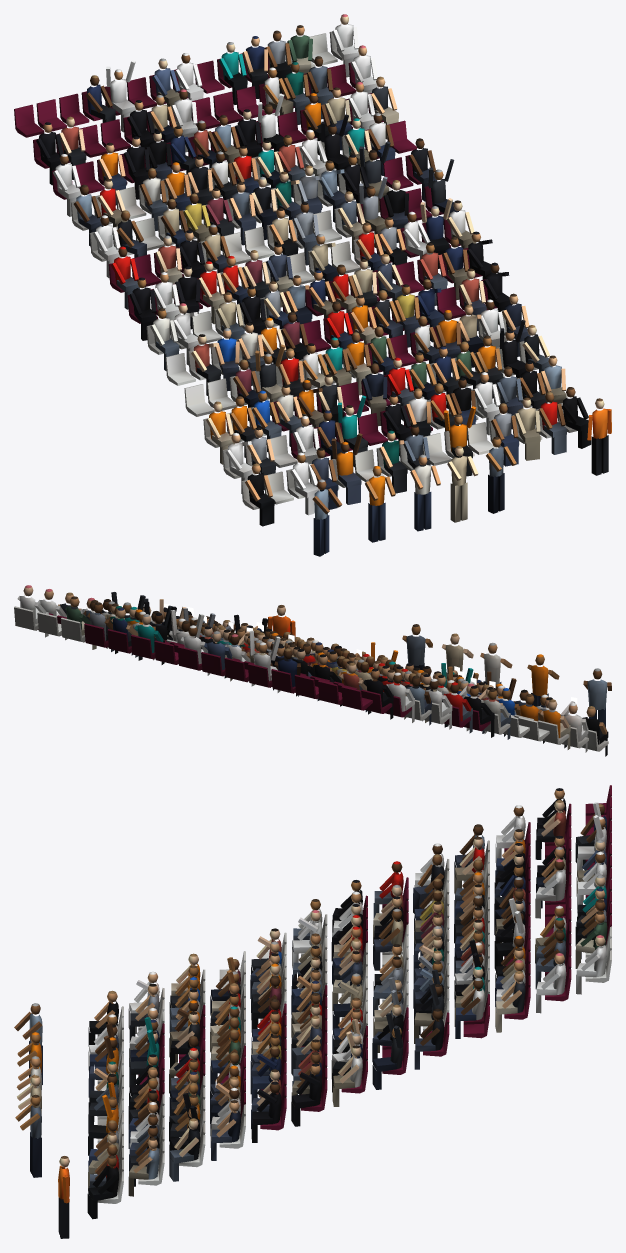
Rendered from stand_academy_kit_1.glb.
3 views of the same model, one above another, from view 1: azimuth 30°, elevation 25°; view 2: azimuth 150°, elevation 25°; view 3: azimuth 270°, elevation 25° (orthographic). The views are drawn at different scales.
Parts seen in each view (by area): view 1: kit_1; view 2: kit_1; view 3: kit_1.
Boxes of the visible parts, bbox=[...] form: kit_1: bbox=[14, 14, 611, 556]; kit_1: bbox=[14, 585, 611, 756]; kit_1: bbox=[14, 785, 611, 1238].
Size of the model in its own units: 8.49 by 6.61 by 11.76.
